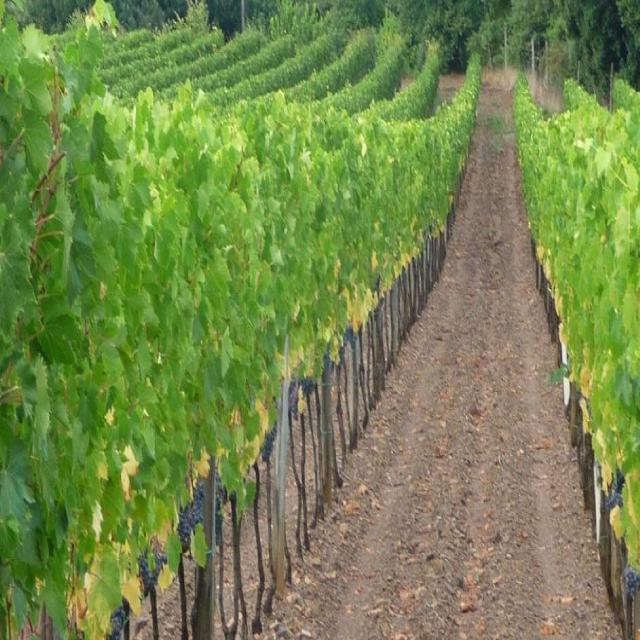row: (232, 83, 637, 640)
